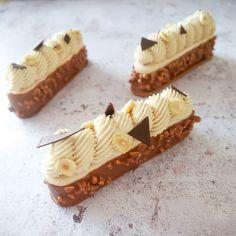eclair: (33, 86, 208, 213), (122, 8, 222, 95), (7, 26, 90, 117)
